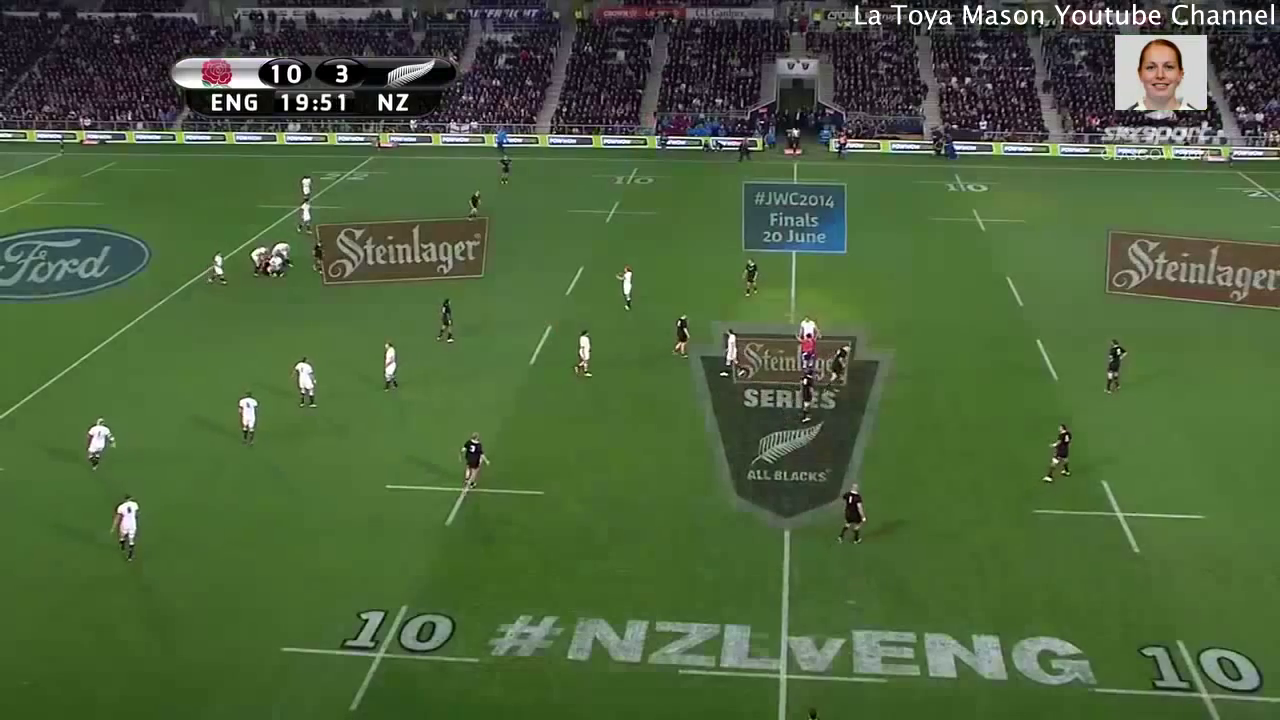10_metre: (272, 596, 488, 716), (1093, 630, 1280, 720), (383, 444, 555, 537), (919, 201, 1031, 235), (564, 195, 664, 228), (912, 169, 1006, 197), (585, 165, 680, 189)
player: (101, 490, 153, 564), (1034, 420, 1081, 492), (832, 474, 875, 550), (450, 427, 494, 500), (77, 410, 118, 480), (281, 352, 324, 415), (561, 325, 601, 383), (370, 335, 408, 396), (712, 321, 749, 382), (231, 386, 263, 450), (1099, 335, 1129, 395), (822, 339, 854, 393), (429, 290, 459, 347), (794, 366, 820, 426), (608, 259, 636, 314), (665, 311, 692, 363), (735, 253, 763, 301), (202, 247, 232, 289), (793, 327, 820, 373), (792, 311, 825, 344), (307, 235, 332, 278), (244, 240, 267, 282), (293, 196, 317, 236), (462, 187, 485, 228), (269, 237, 297, 270), (261, 253, 291, 279), (496, 153, 515, 189), (299, 173, 315, 200)
